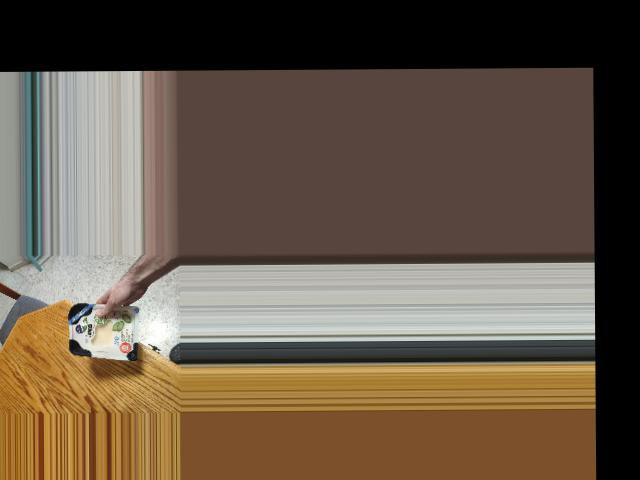cheese: (56, 305, 151, 361)
